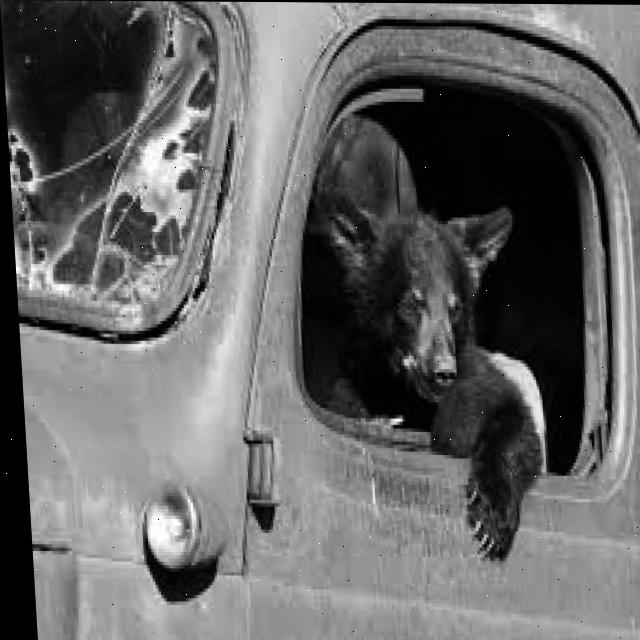Bear: (310, 186, 548, 562)
